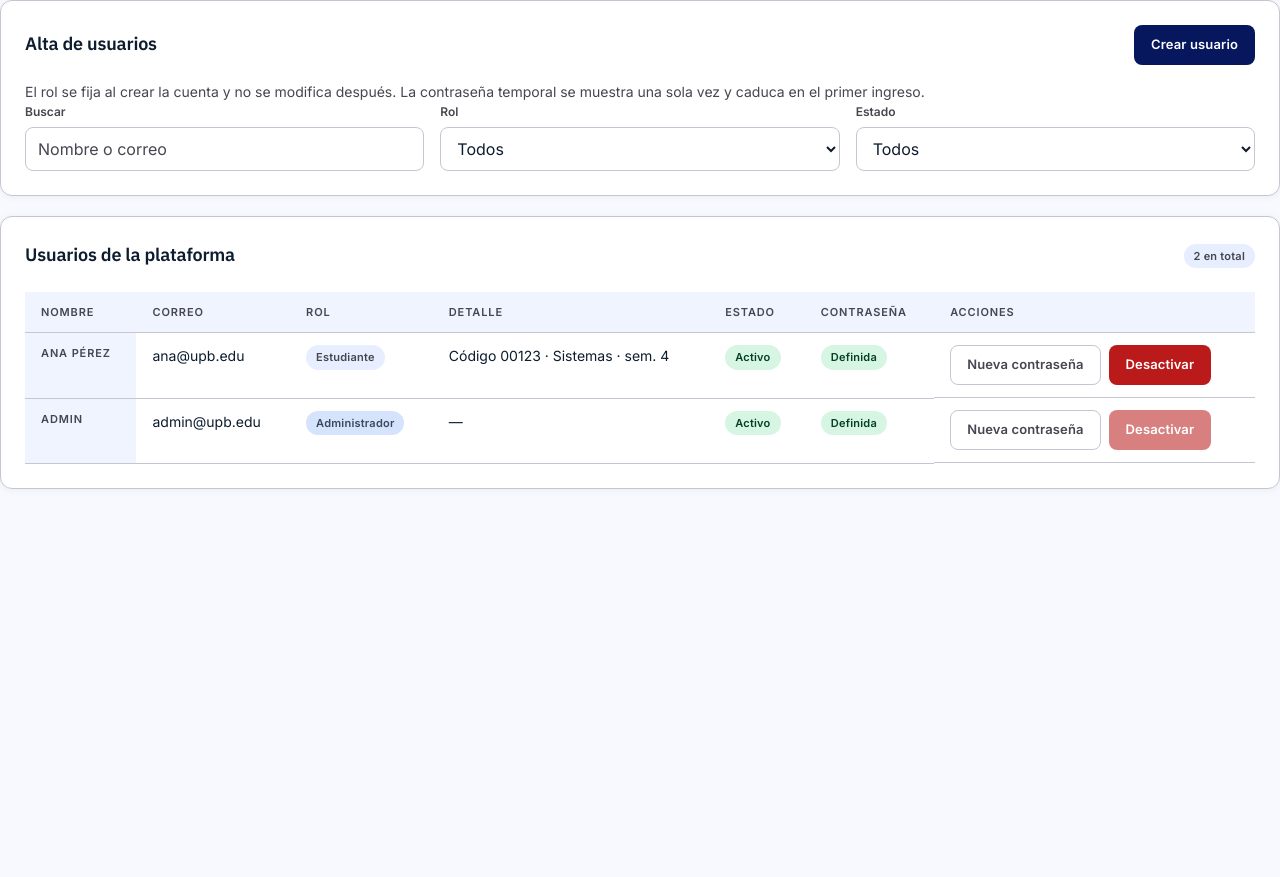
Test: Alta de usuarios › mantiene el diálogo abierto y muestra el error si la API rechaza el alta
The width and height of the screenshot is (1280, 877).
Expected: the column heading "Ana Pérez" is shown, [25,333,136,398]
Step 1. Click the button "Crear usuario" → [1194, 45], box [1134,25,1255,65]
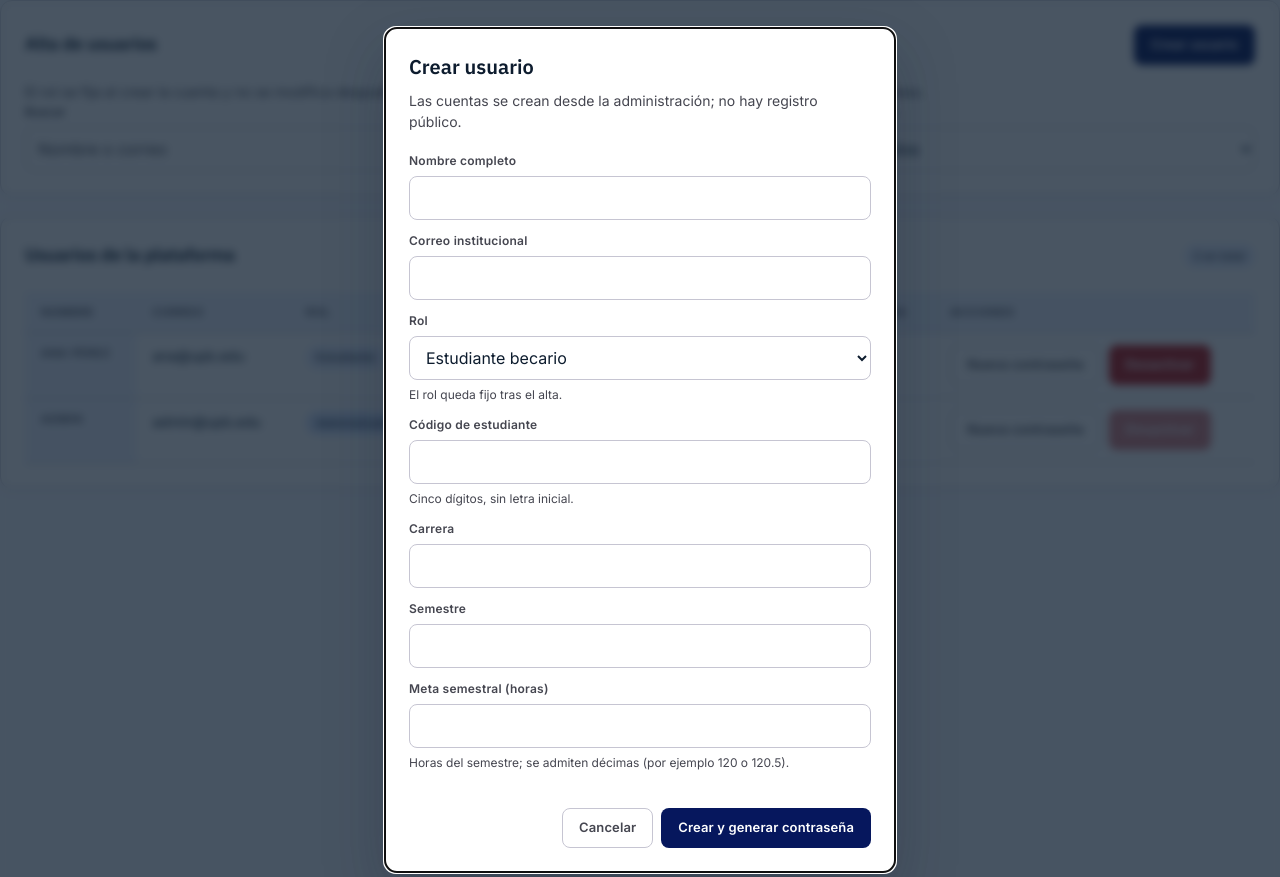
Step 2. Type "Luis Gómez" into the field labelled "Nombre completo" → [640, 198], box [409,176,871,220]
Step 3. Type "luis@upb.edu" into the field labelled "Correo institucional" → [640, 278], box [409,256,871,300]
Step 4. Type "00234" into the field labelled "Código de estudiante" → [640, 462], box [409,440,871,484]
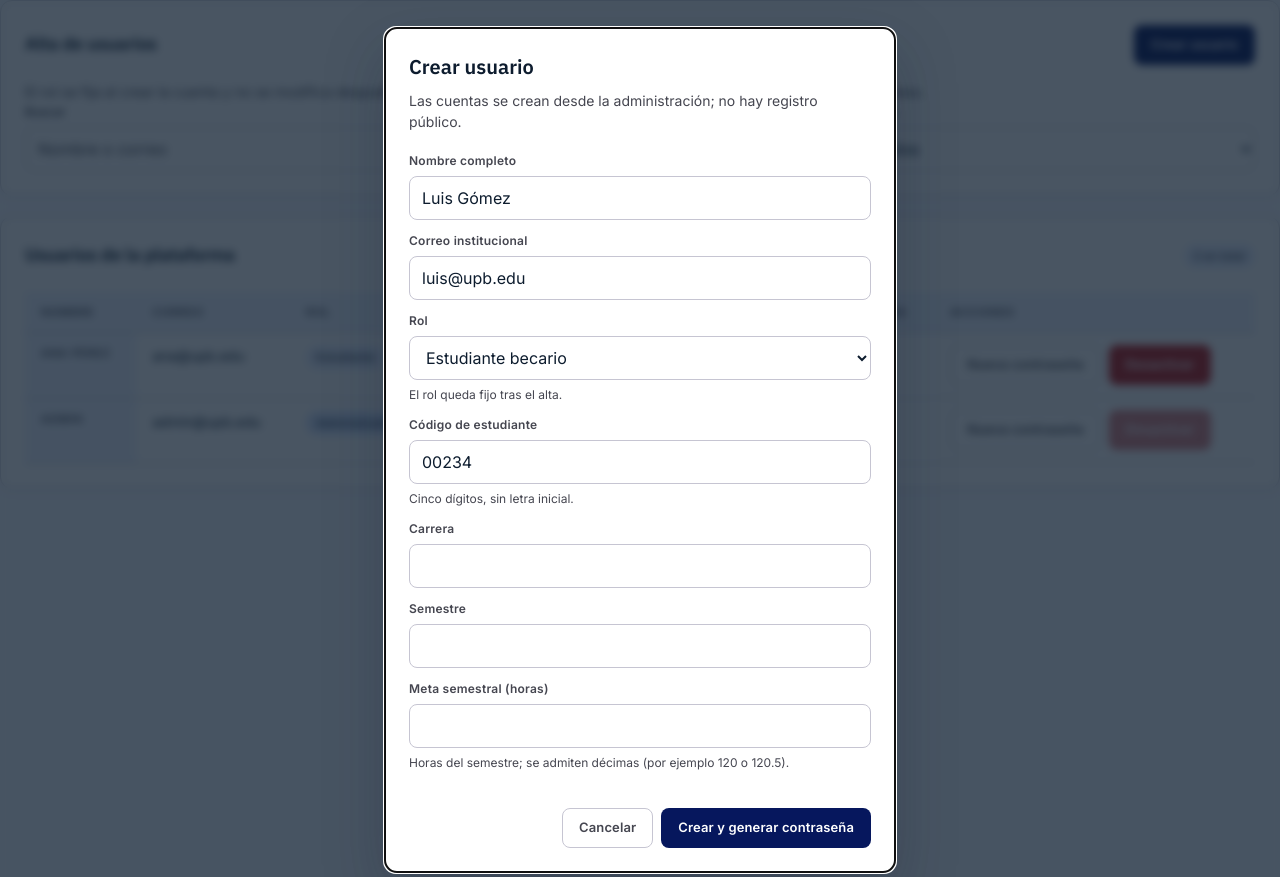
Step 5. Type "Sistemas" into the field labelled "Carrera" → [640, 566], box [409,544,871,588]
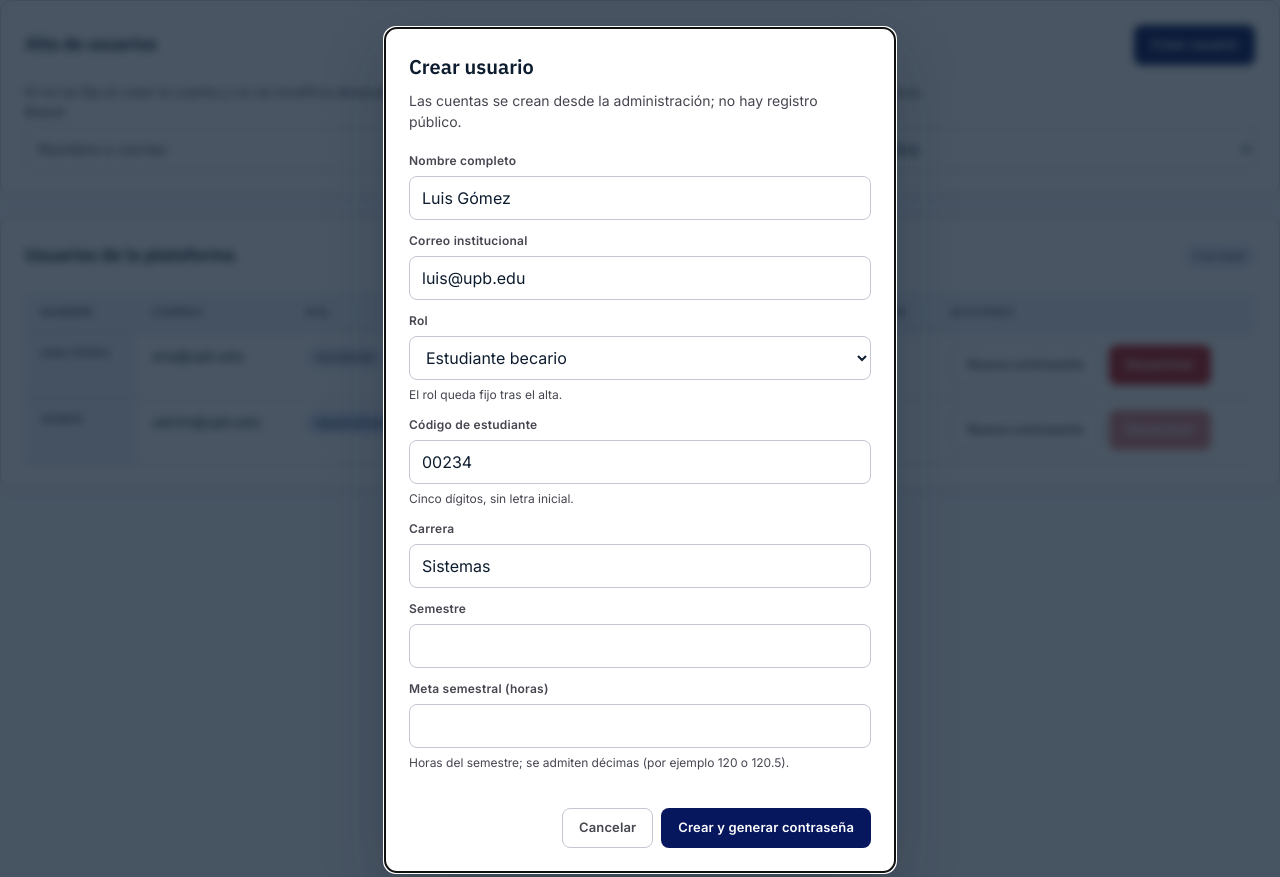
Step 6. Type "5" into the number field labelled "Semestre" → [640, 646], box [409,624,871,668]
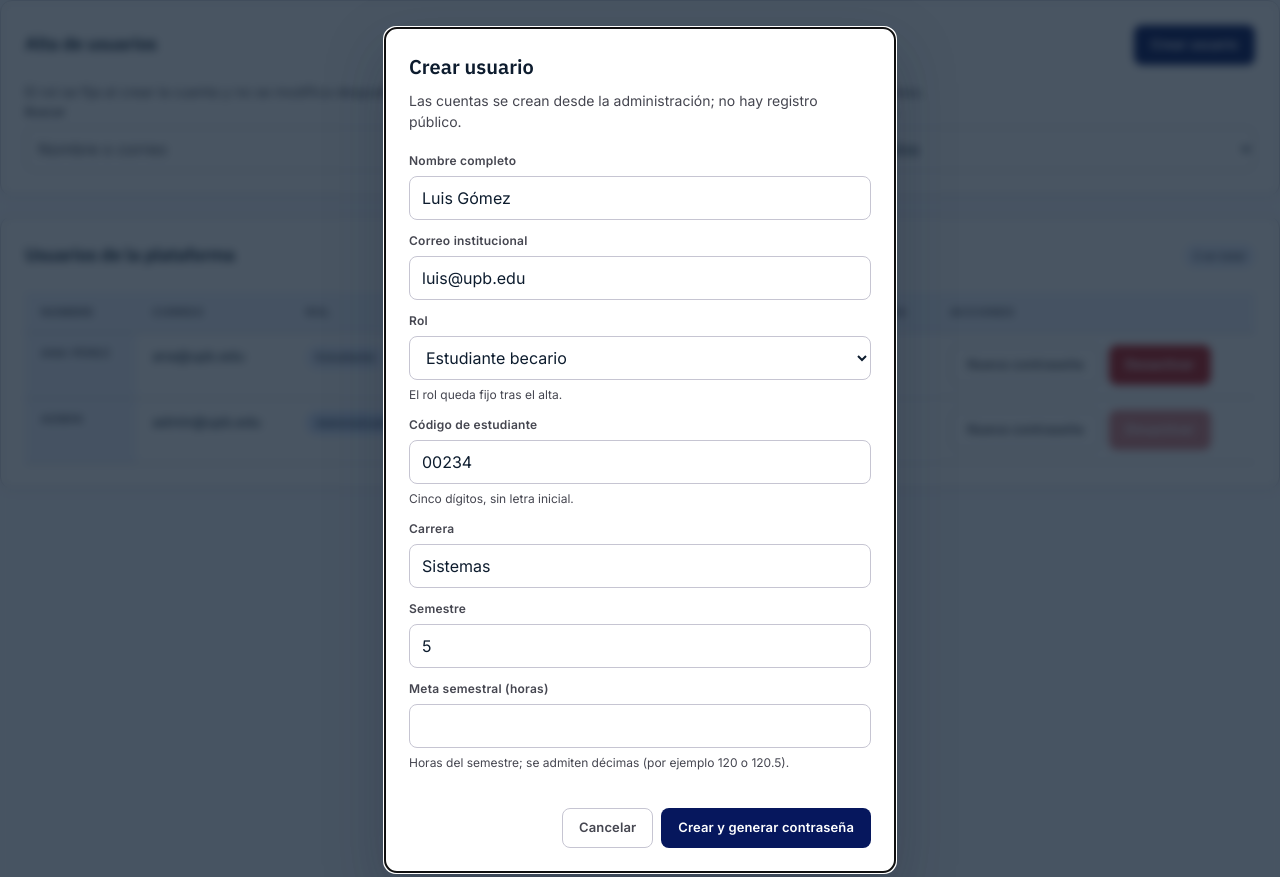
Step 7. Type "120.5" into the number field labelled "Meta semestral (horas)" → [640, 726], box [409,704,871,748]
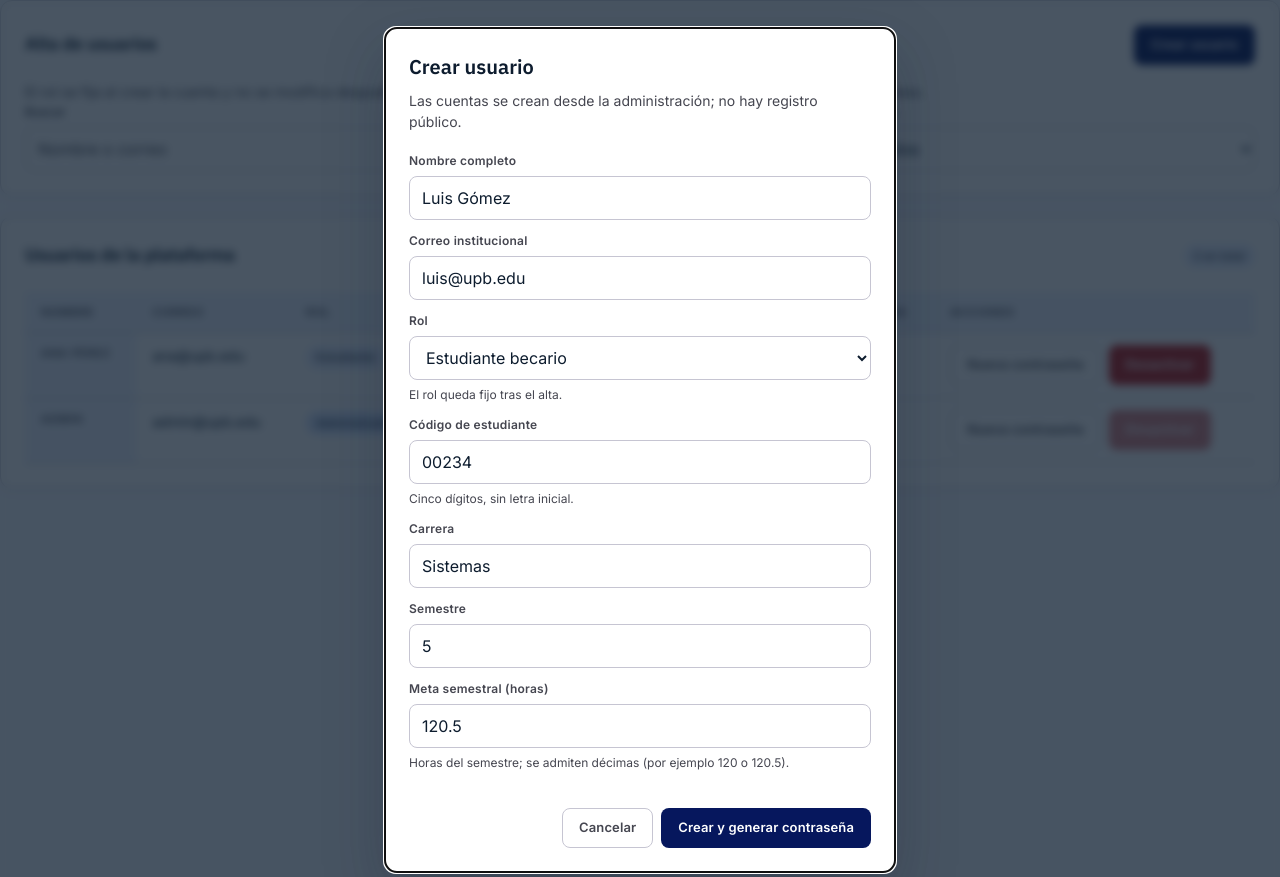
Step 8. Click the button "Crear y generar contraseña" → [766, 828], box [661,808,871,848]
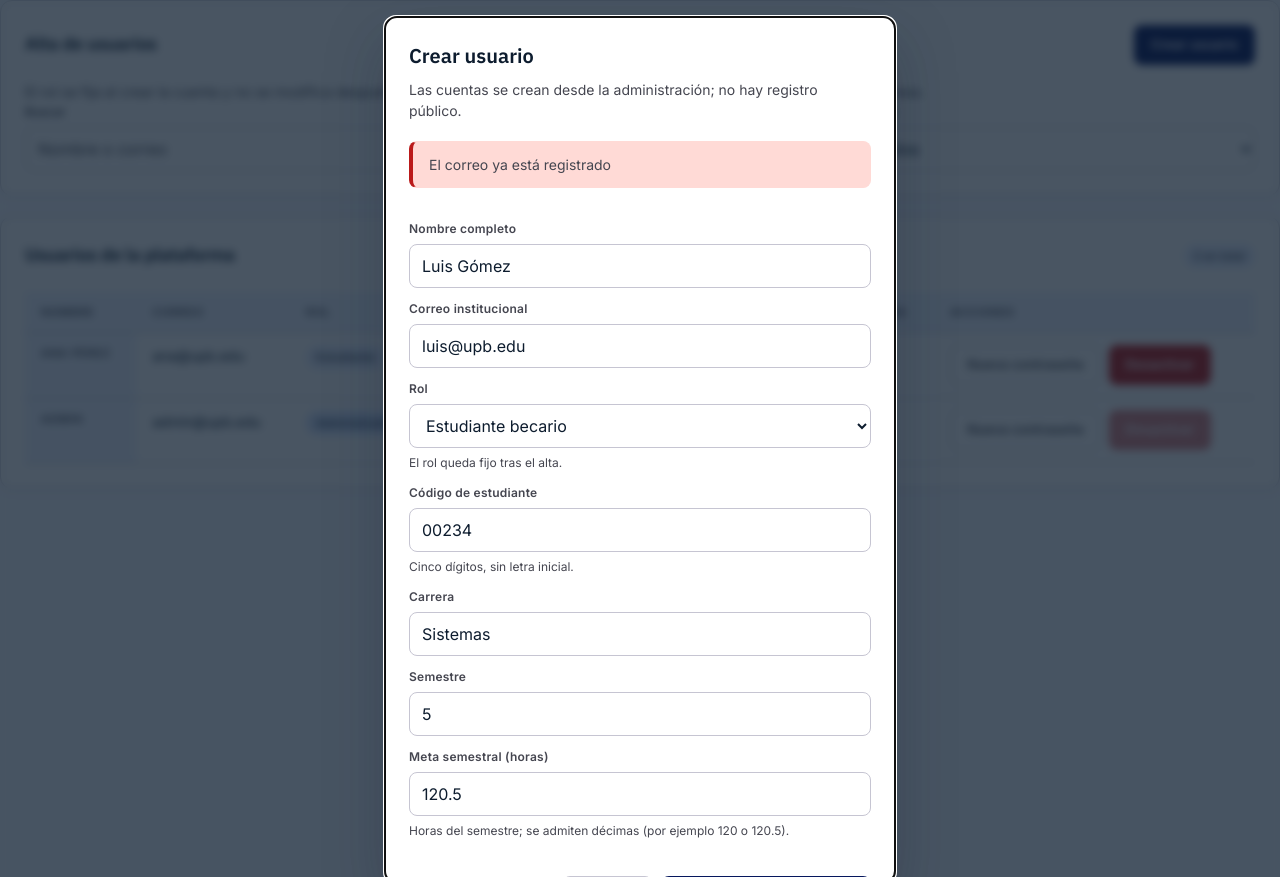
Now the text "El correo ya está registrado" is shown, box [409,141,871,188]
